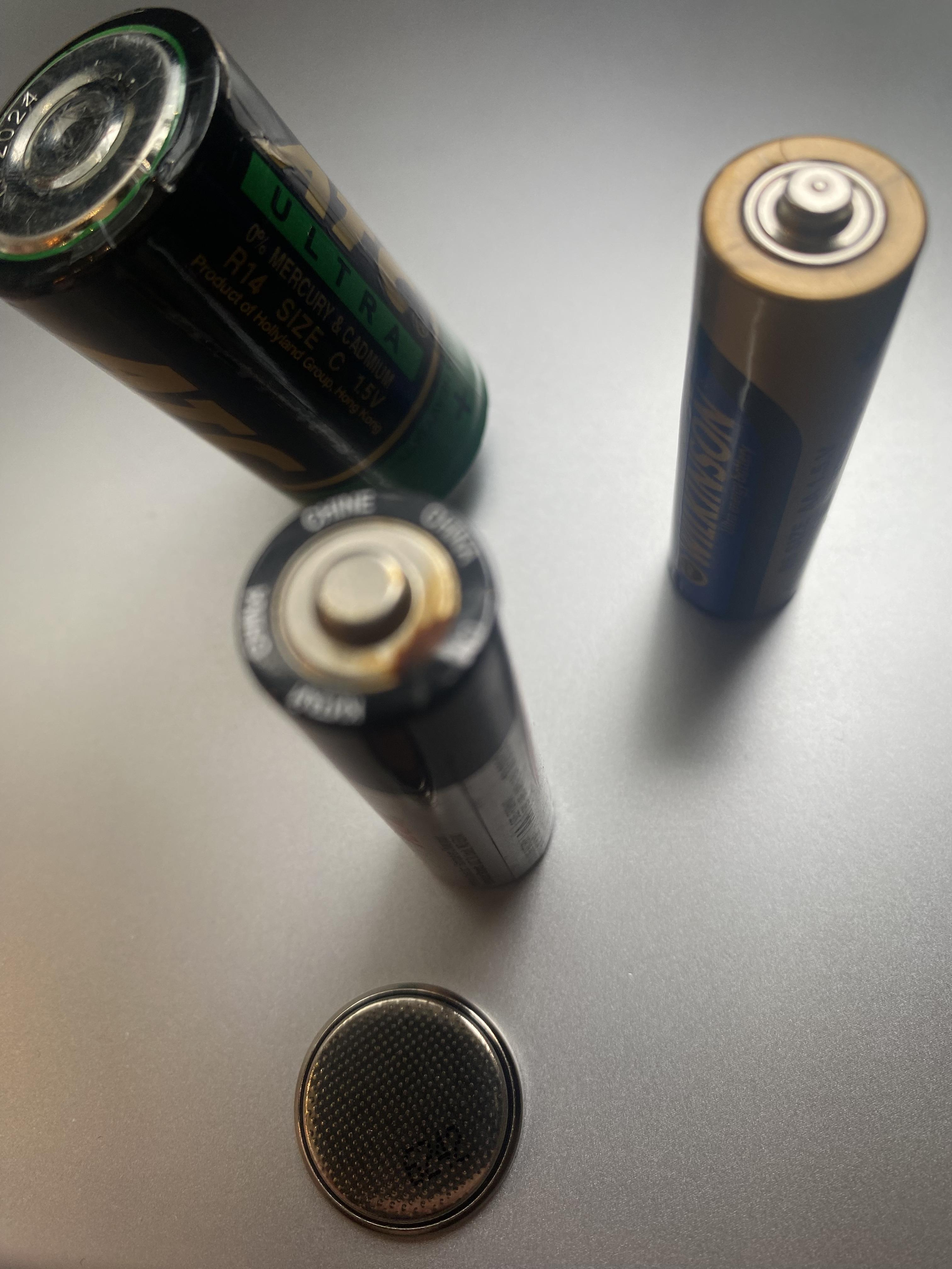AA: (233, 486, 556, 893), (666, 132, 927, 621)
COIN: (214, 947, 586, 1268)
